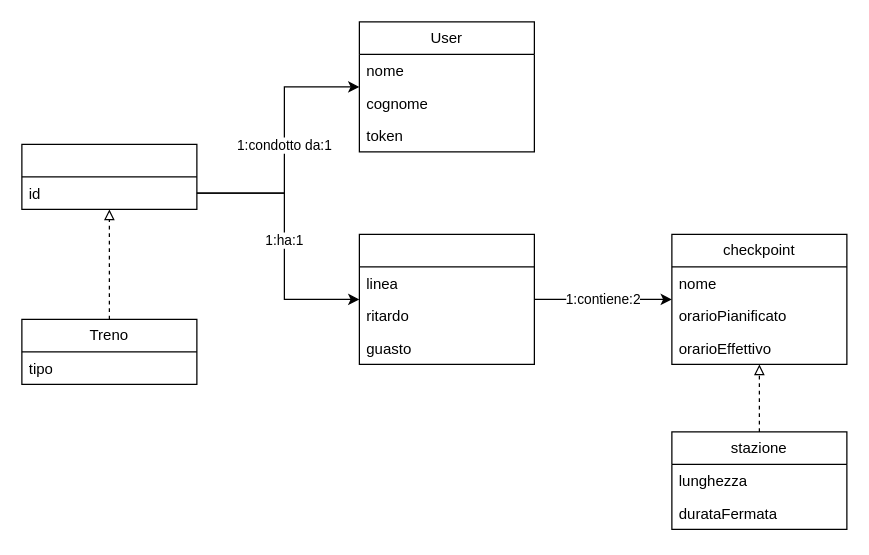
The diagram is 869 pixels wide and 555 high, and some of its shapes have lost their labels. Each missing label, with the box of its shape:
StatoVeicolo: (358, 233, 534, 364)
Veicolo: (21, 143, 197, 209)
